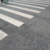zebra: (1, 1, 50, 40)
